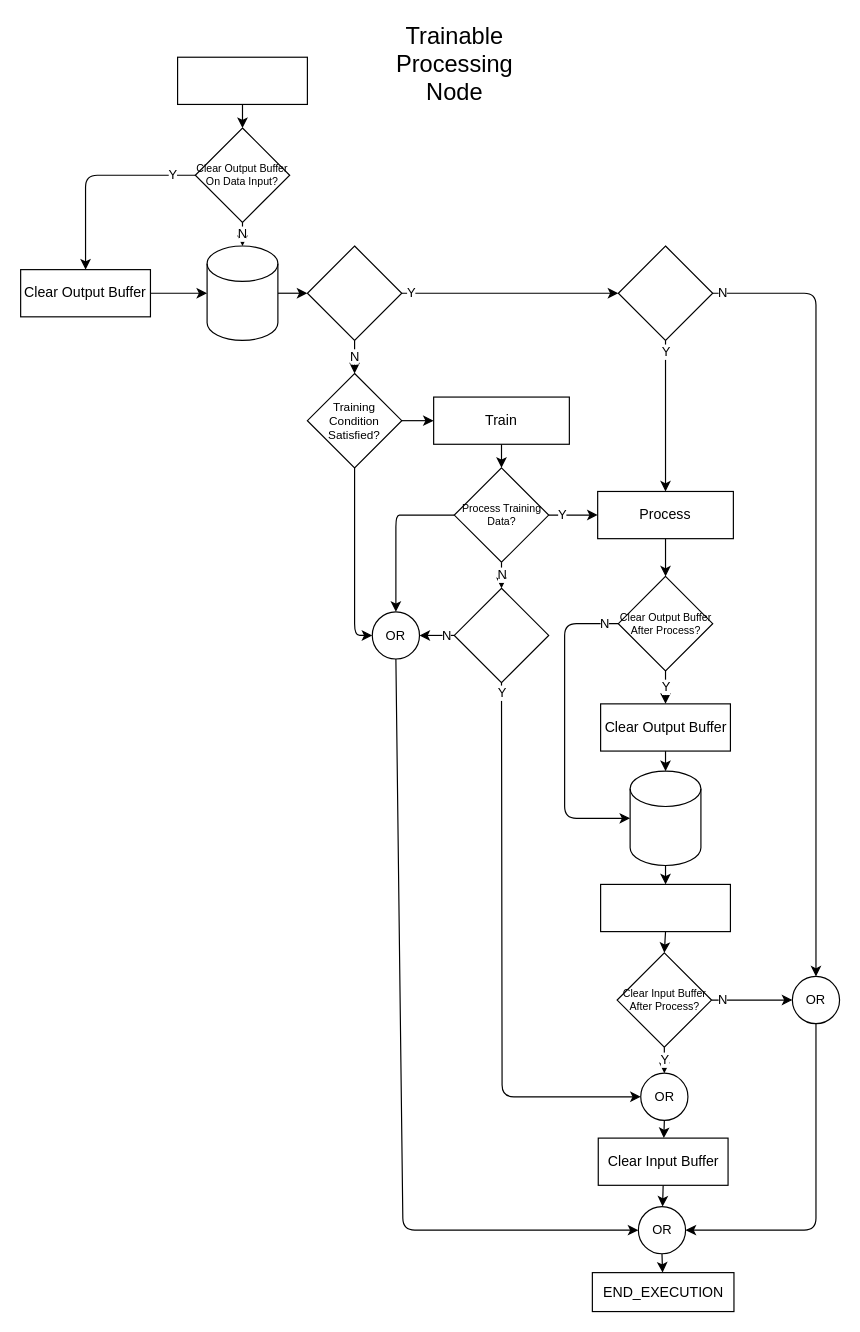
Image size: 860x1332. Some labels were removed from this diagram. Here are the shapes that lost their labels. From the top down, the centre of each, then its label:
the point at 241,80: Data Input
the point at 242,292: Input Buffer
the point at 354,292: Is Trained?
the point at 665,292: Processing Condition Satisfied?
the point at 501,635: Clear Input Buffer After Training?
the point at 665,818: Output Buffer
the point at 664,907: Enable Next Node Call
